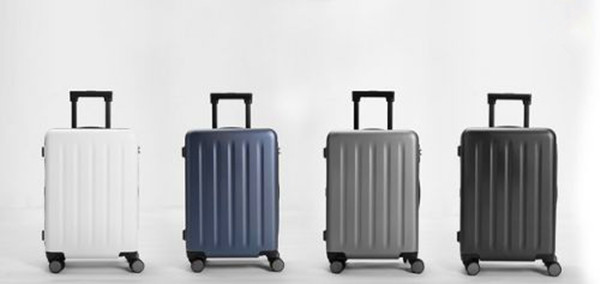luggage: (40, 88, 147, 275), (181, 90, 286, 273), (321, 91, 426, 274), (456, 96, 561, 279)
